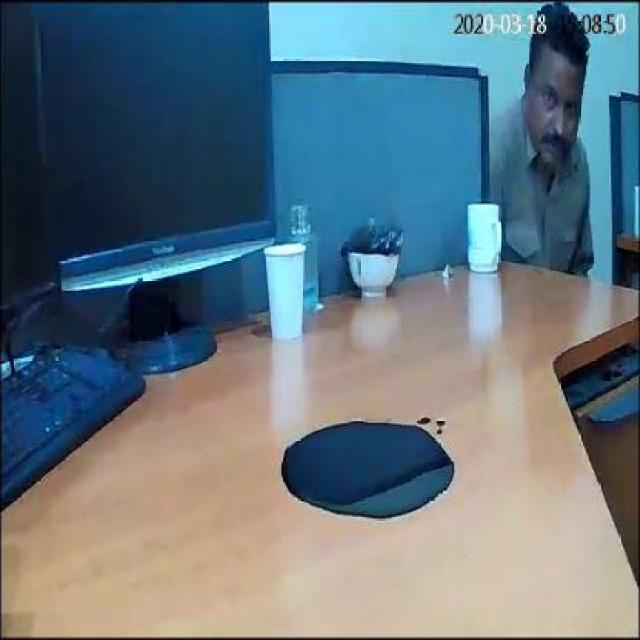spill: (264, 414, 448, 514)
